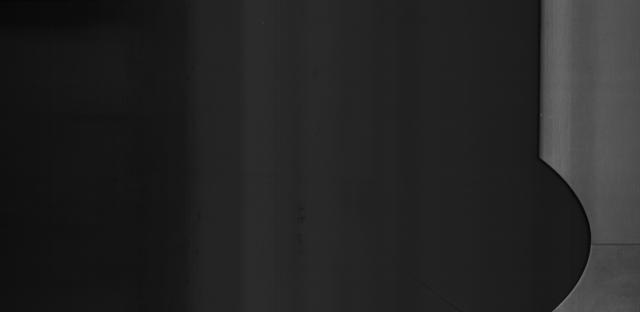crescent_gap: (530, 150, 597, 312)
